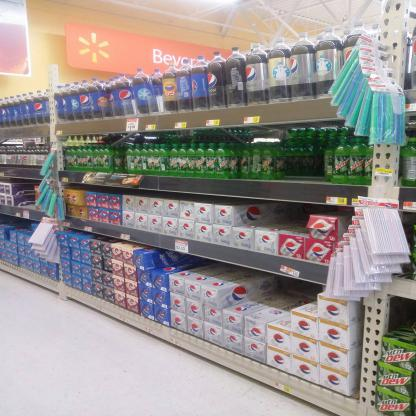Void: (172, 254, 238, 281), (289, 150, 330, 180), (390, 297, 416, 333), (266, 206, 308, 228), (269, 278, 291, 318), (302, 282, 315, 301)
